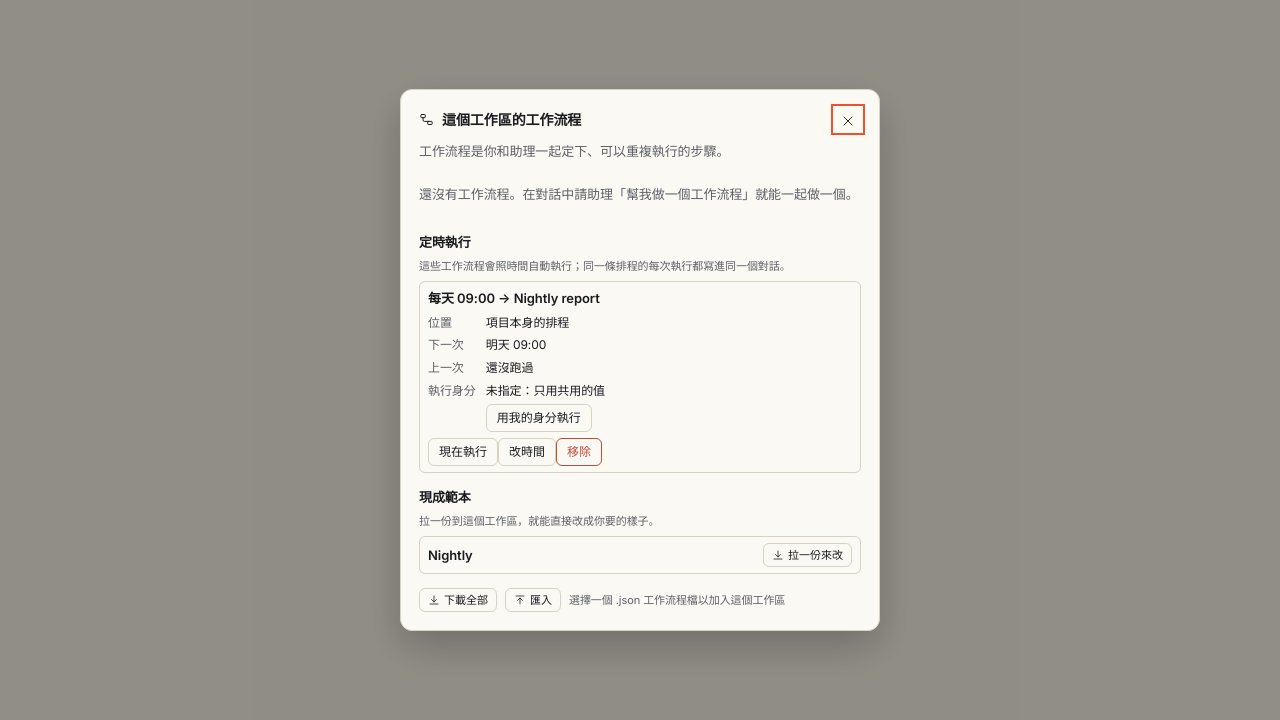
WorkflowsModal — schedules › moves a schedule to a new time with the editor the overview uses
Click the button "改時間" at {"x": 527, "y": 452}, box [498, 438, 556, 466]
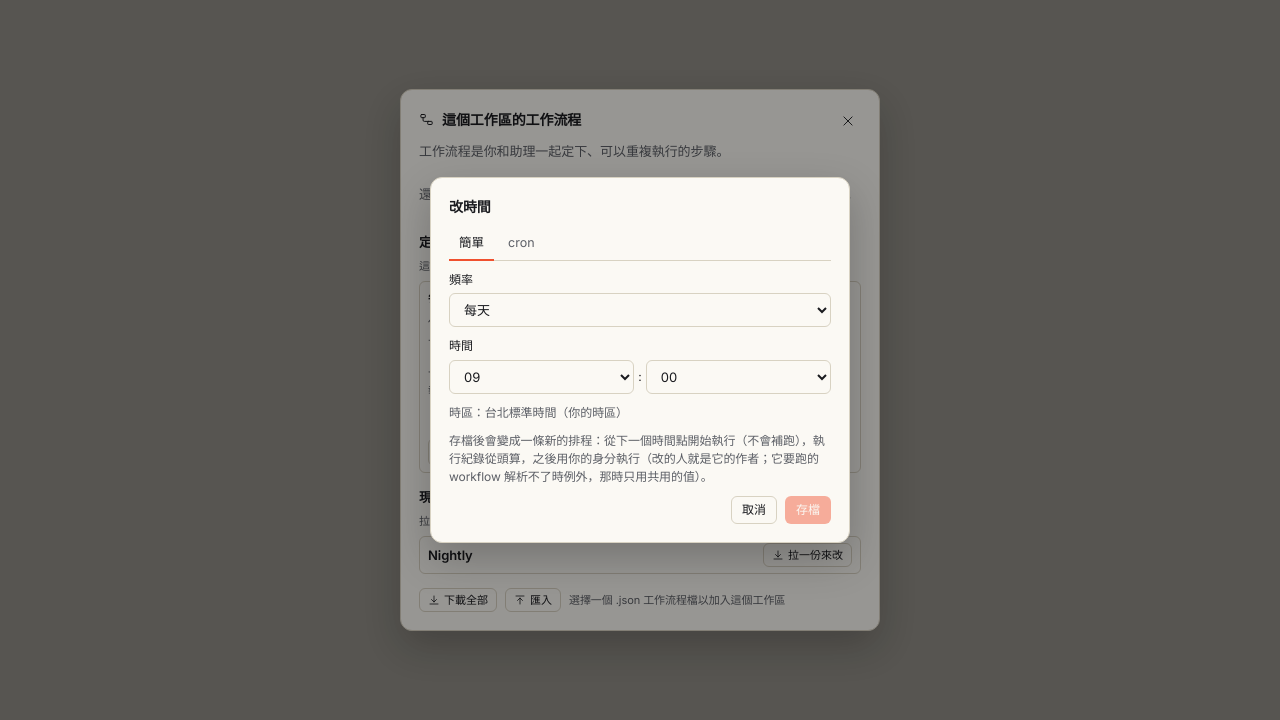
Select "07" in the dropdown named "時" at {"x": 542, "y": 377}, box [449, 360, 634, 394]
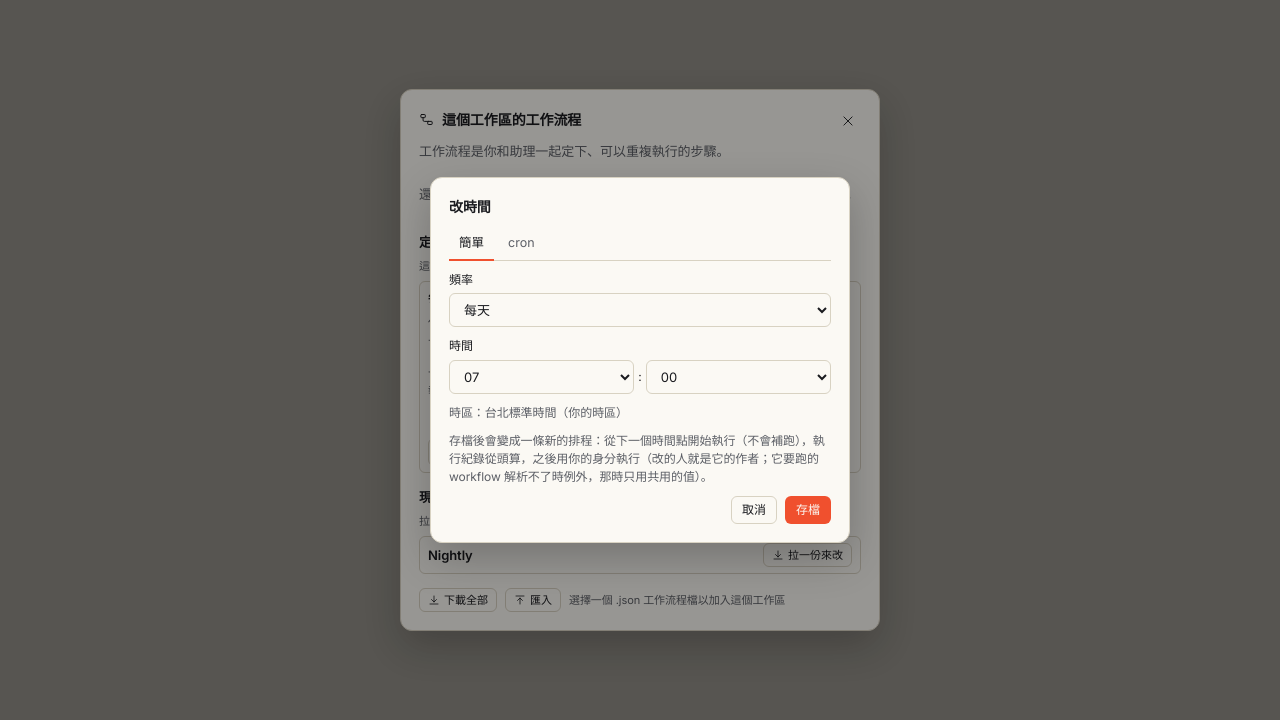
Select "15" in the dropdown named "分" at {"x": 738, "y": 377}, box [646, 360, 831, 394]
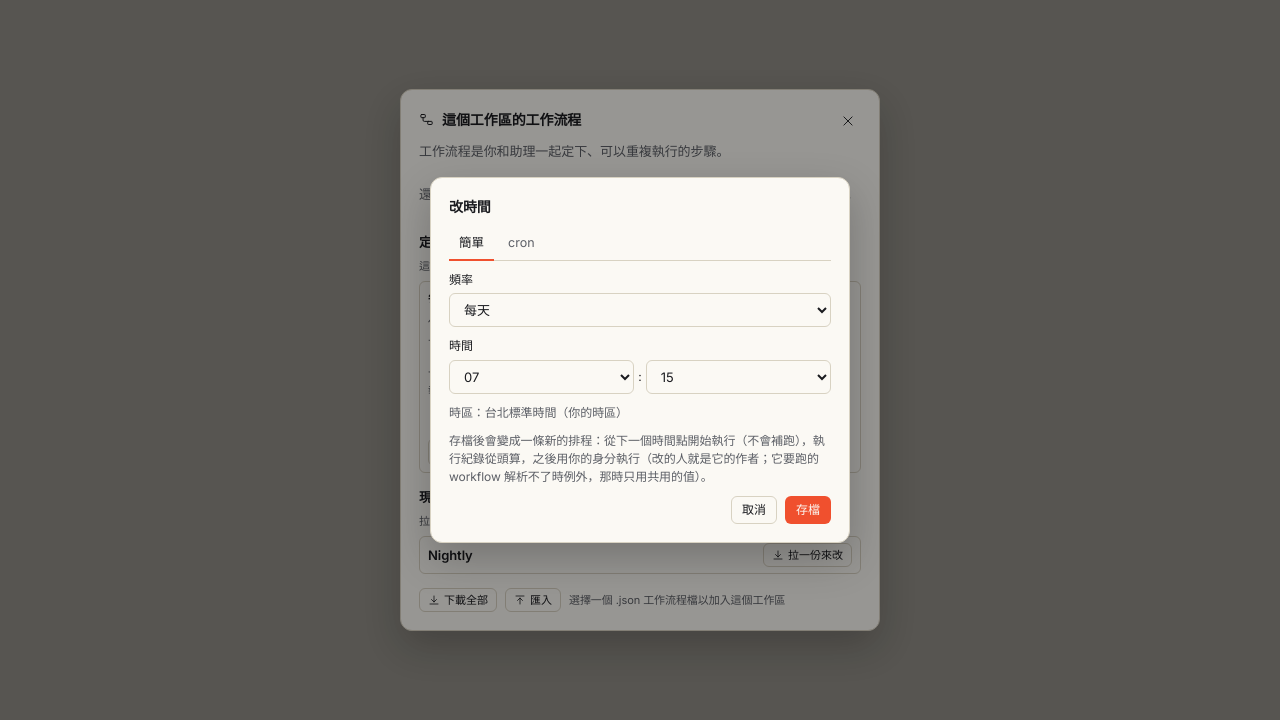
Click the button with test id "schedule-time-save" at {"x": 808, "y": 510}, box [785, 496, 831, 524]
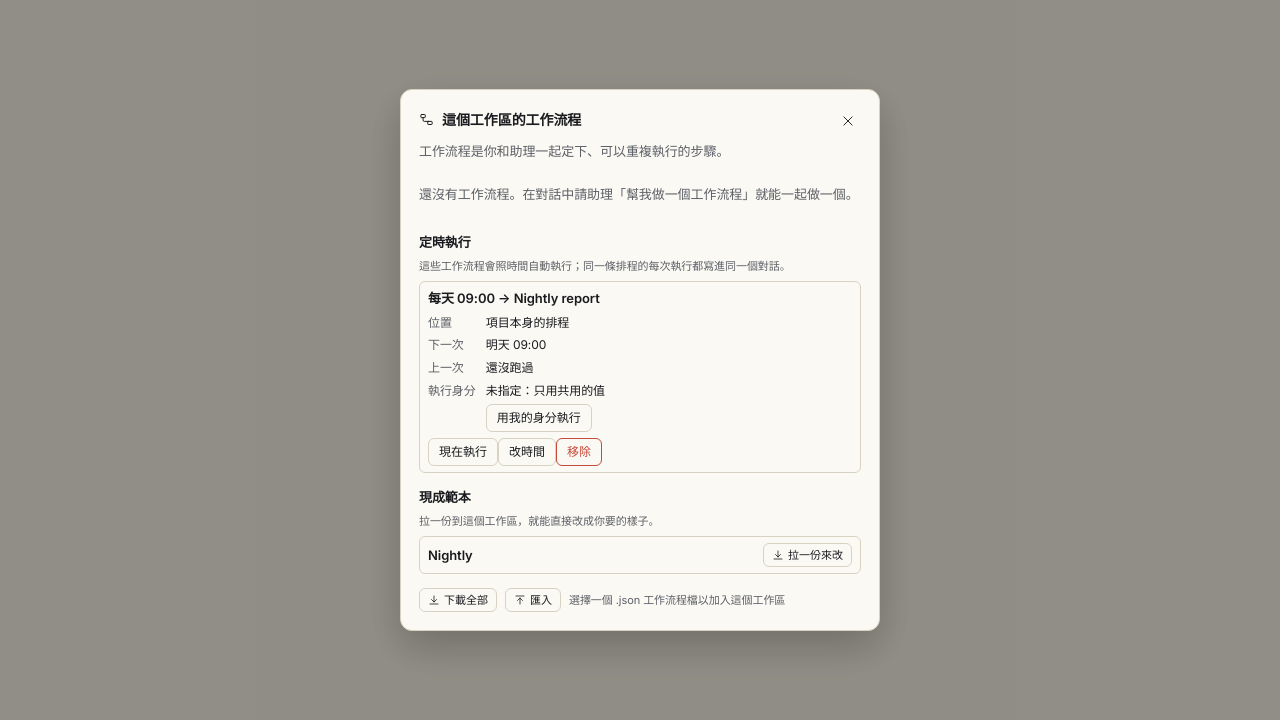
Expected: the dialog with test id "schedule-time-modal" is gone
